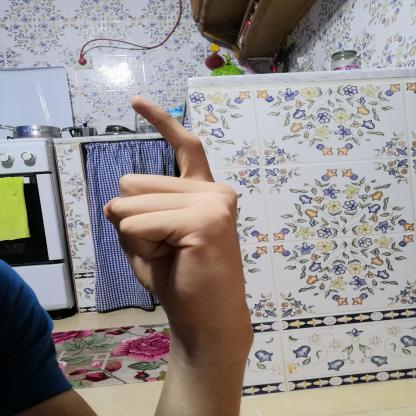RAA: (93, 88, 264, 328)
